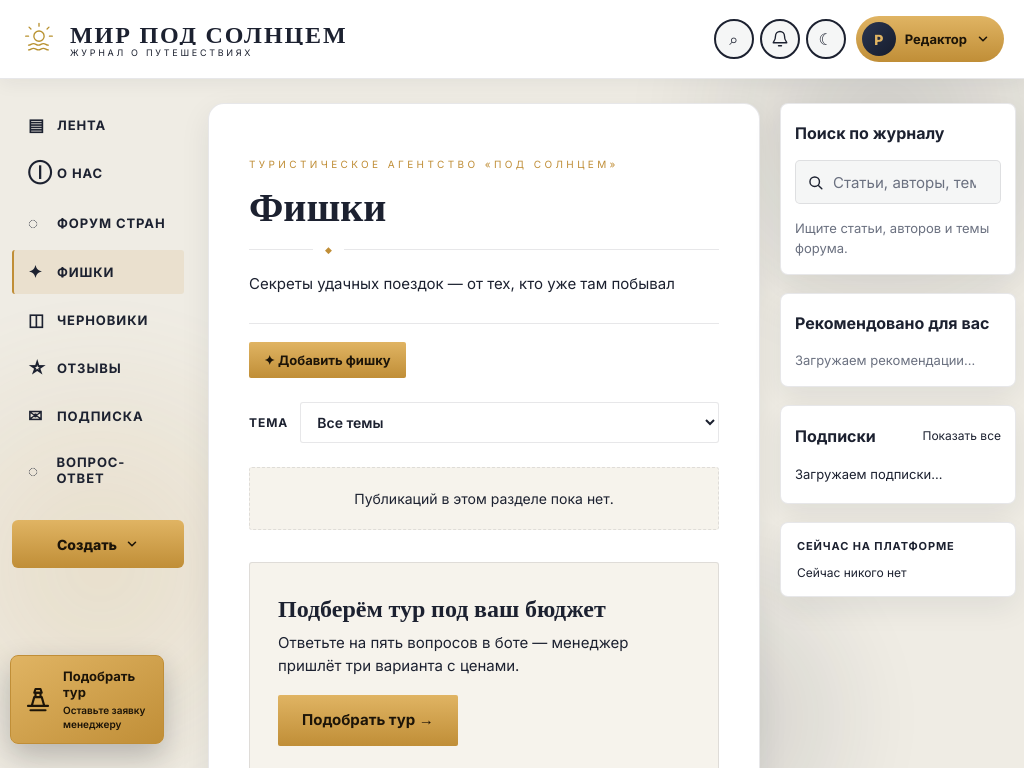
it: App pathname routing › always shows the fishka form to an editor and publishes selected emoji immediately
Click the button "✦ Добавить фишку" at (327, 360), box [249, 342, 406, 378]
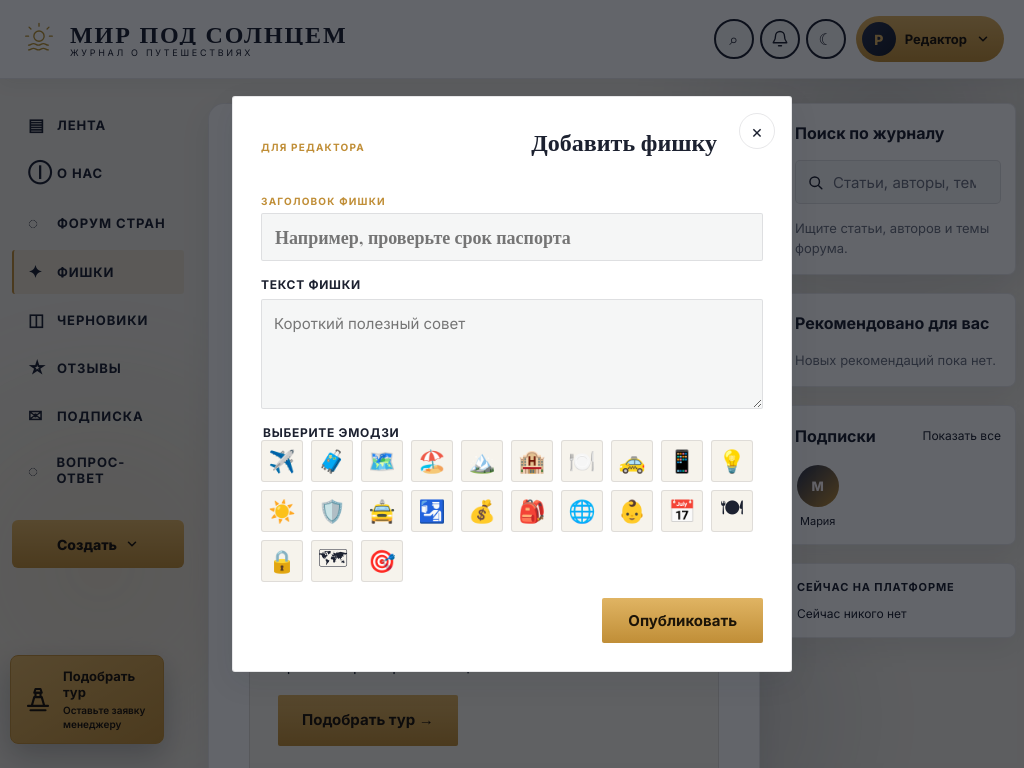
Type "Бронируйте заранее" into the field labelled "Заголовок фишки" at (512, 237), box [261, 213, 763, 261]
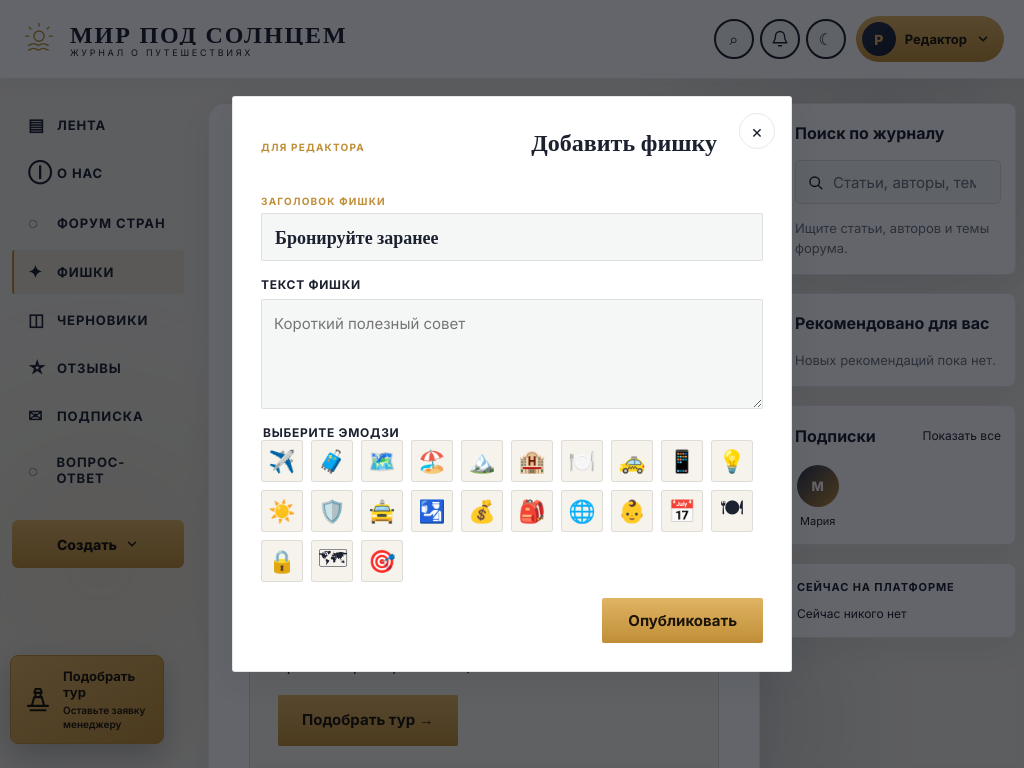
Type "Так будет больше вариантов." into the text box labelled "Текст фишки" at (512, 354), box [261, 299, 763, 409]
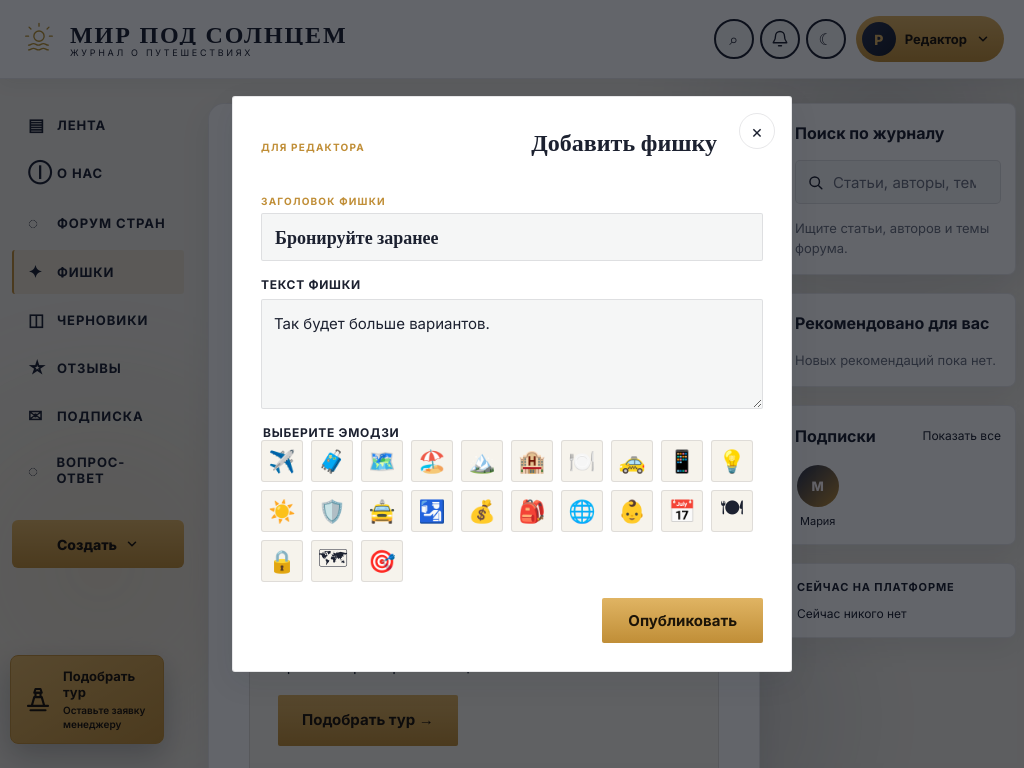
Expected: the button "Опубликовать" is shown
Click the button "Опубликовать" at (683, 620), box [602, 598, 763, 643]
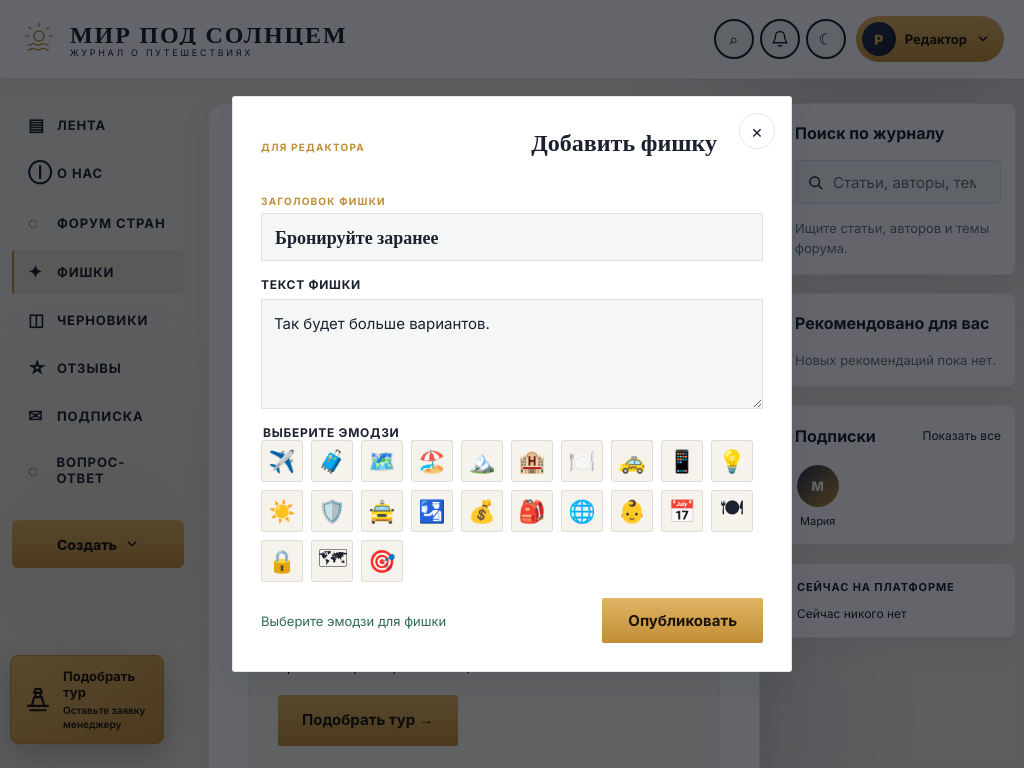
Expected: the text "Выберите эмодзи для фишки" is shown, [261, 612, 446, 628]
Click the button named "Выбрать emoji 💡" at (732, 461), box [711, 440, 753, 482]
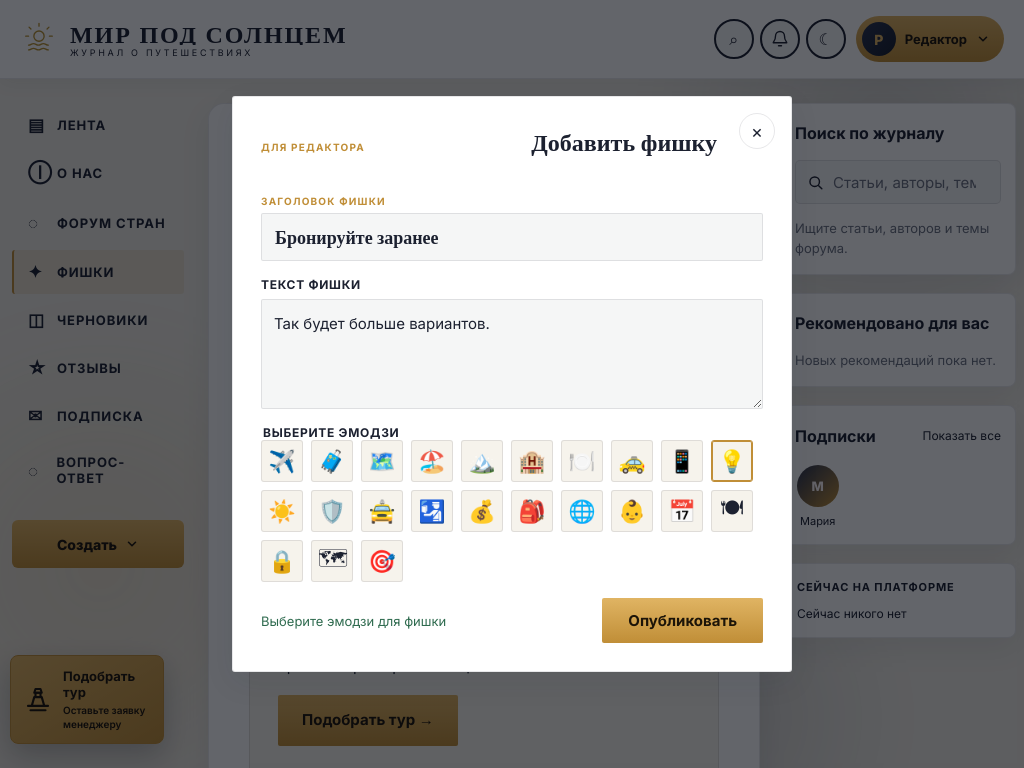
Click the button "Опубликовать" at (683, 620), box [602, 598, 763, 643]
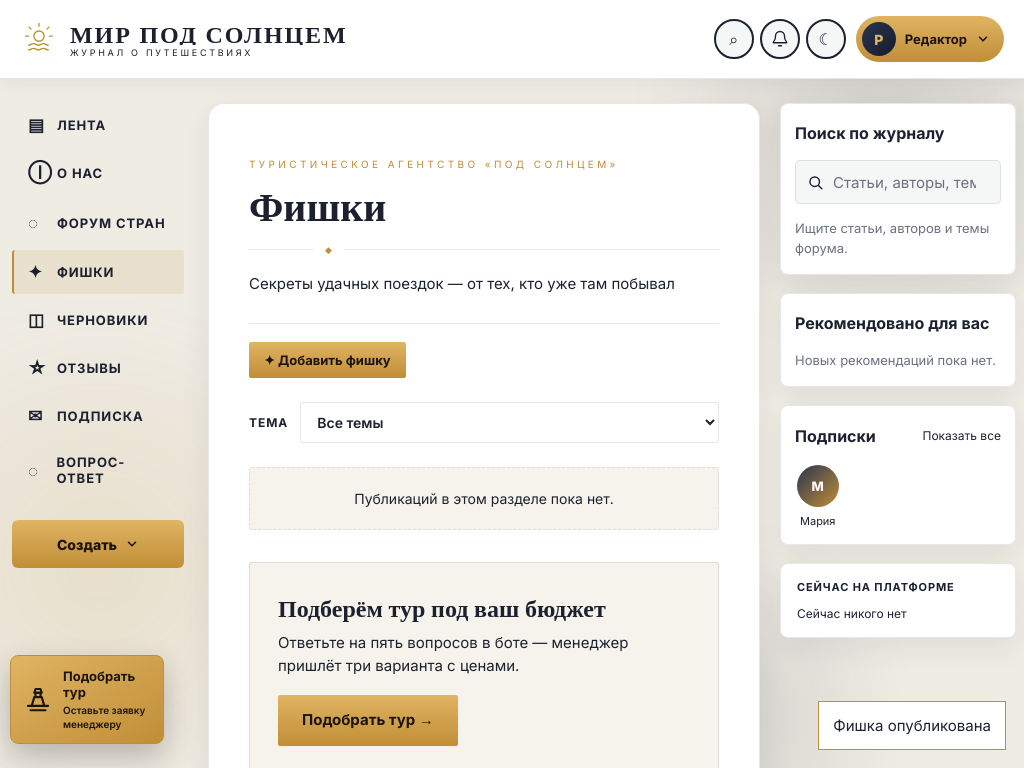
Expected: the text "Фишка опубликована" is shown, [818, 701, 1006, 750]
